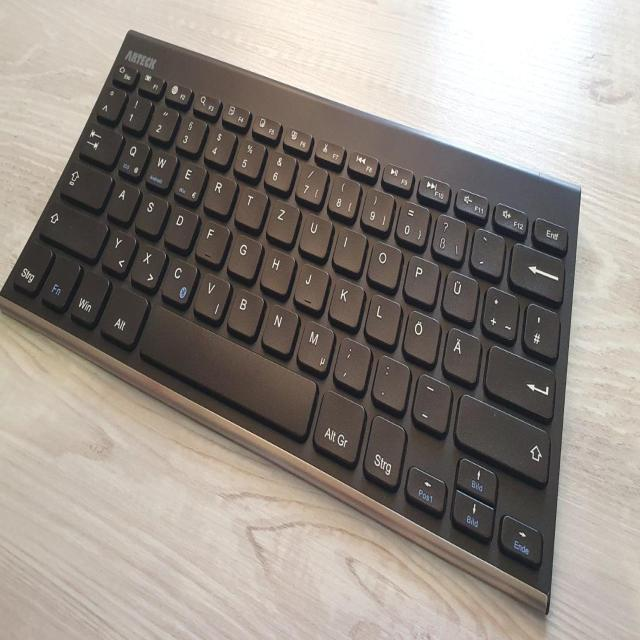0: (395, 199, 430, 246)
1: (122, 92, 152, 131)
2: (147, 103, 179, 142)
3: (175, 113, 207, 153)
4: (204, 124, 236, 165)
5: (233, 137, 267, 179)
6: (263, 148, 297, 192)
7: (295, 161, 328, 205)
8: (327, 173, 361, 218)
9: (360, 186, 395, 232)
a: (106, 179, 140, 222)
accent: (470, 226, 505, 277)
ae: (442, 326, 482, 385)
alt-left: (99, 284, 149, 347)
altgr-right: (312, 385, 366, 467)
b: (225, 286, 265, 336)
c: (160, 258, 199, 305)
caret: (95, 84, 126, 122)
comma: (333, 336, 372, 392)
d: (163, 207, 198, 251)
del: (509, 241, 566, 301)
e: (173, 158, 206, 203)
enter: (484, 344, 557, 421)
f: (194, 220, 230, 265)
g: (226, 234, 262, 280)
h: (259, 247, 296, 295)
hash: (523, 302, 561, 361)
i: (331, 227, 368, 277)
j: (293, 261, 330, 312)
k: (328, 275, 364, 329)
keyboard: (0, 21, 585, 620)
l: (364, 292, 401, 347)
m: (296, 318, 335, 373)
minus: (411, 372, 452, 436)
n: (260, 302, 299, 355)
o: (366, 239, 402, 289)
oe: (401, 309, 440, 365)
p: (403, 253, 440, 306)
plus: (481, 284, 518, 341)
point: (371, 353, 410, 412)
q: (117, 136, 149, 178)
r: (202, 170, 237, 216)
s: (134, 193, 168, 236)
shift-left: (37, 195, 109, 261)
shift-lock: (57, 159, 113, 211)
shift-right: (455, 392, 552, 485)
space: (136, 300, 319, 439)
ss: (431, 212, 467, 261)
strg-left: (12, 242, 54, 295)
strg-right: (362, 411, 407, 490)
t: (234, 185, 269, 229)
tab: (78, 121, 123, 166)
u: (298, 212, 334, 259)
ue: (441, 269, 479, 323)
v: (192, 272, 231, 321)
w: (145, 146, 178, 189)
x: (129, 245, 167, 290)
y: (100, 229, 137, 274)
z: (265, 198, 301, 244)
